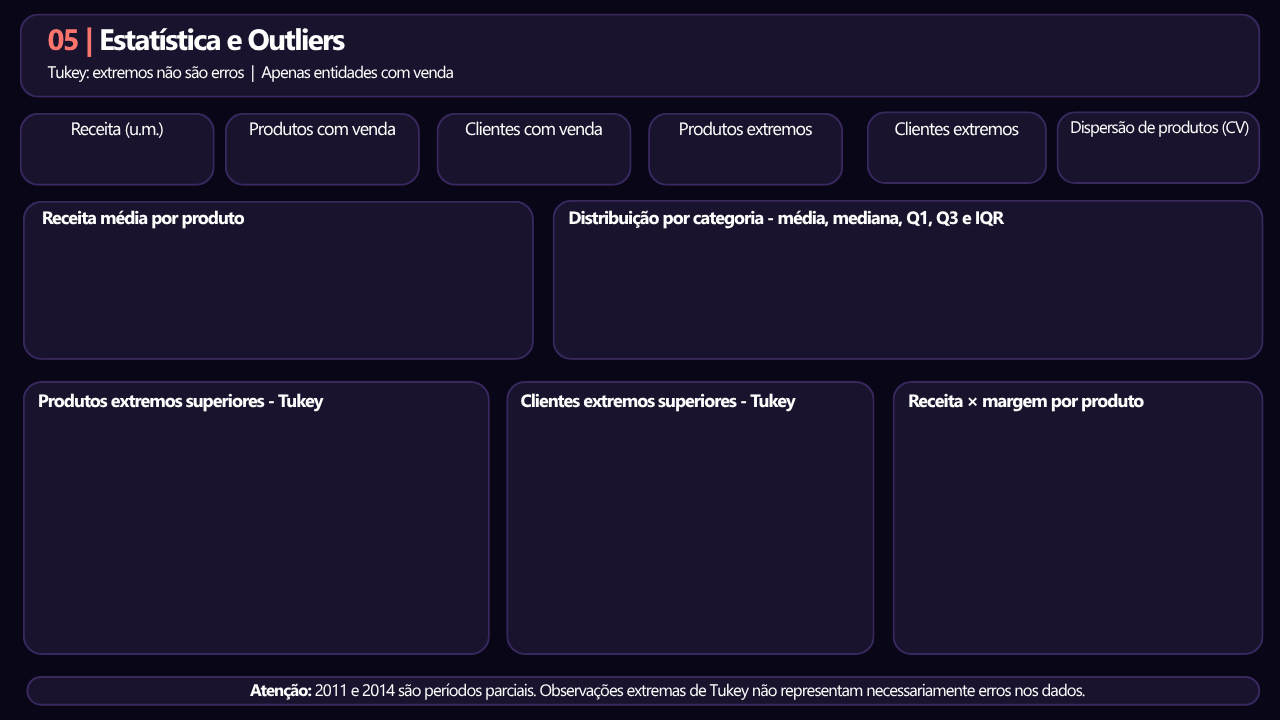

What the dashboard file says about the page in this screenshot:
{"tool":"powerbi","page":{"name":"05 | Estatística e Outliers","canvas":[1280,720],"ordinal":4},"visuals":[{"type":"slicer","fields":{"Values":["DimCalendario.Ano"]},"box":[703.8,20.5,128.8,68.8],"z":0},{"type":"slicer","fields":{"Values":["DimProduto.Categoria"]},"box":[832.9,20.5,137.1,67.1],"z":1000},{"type":"slicer","fields":{"Values":["DimTerritorio.Territorio"]},"box":[970,20.5,138.7,66.4],"z":2000},{"type":"slicer","fields":{"Values":["DimCliente.TipoCliente"]},"box":[1108.7,20.5,141.2,66.4],"z":3000},{"type":"card","title":"Receita (u.m.)","fields":{"Values":["Medidas.Receita de Produtos"]},"box":[23.1,134.6,192.3,42.3],"z":4000},{"type":"card","title":"Produtos com venda","fields":{"Values":["Medidas.Produtos Analisados"]},"box":[224.6,133.8,193.8,43.1],"z":5000},{"type":"card","title":"Clientes com venda","fields":{"Values":["Medidas.Clientes Analisados"]},"box":[437.7,133.8,191.5,43.1],"z":6000},{"type":"card","title":"Produtos extremos","fields":{"Values":["Medidas.Produtos Outliers Total"]},"box":[647.7,135.4,194.6,42.3],"z":7000},{"type":"card","title":"Clientes extremos","fields":{"Values":["Medidas.Clientes Outliers Total"]},"box":[865.4,133.8,180,43.1],"z":8000},{"type":"card","title":"Dispersão produtos (CV)","fields":{"Values":["Medidas.Coeficiente Variação Produto"]},"box":[1059.2,133.8,203.8,42.3],"z":9000},{"type":"clusteredColumnChart","title":"Receita média por produto","fields":{"Category":["DimProduto.Categoria"],"Y":["Medidas.Receita Média Produto"]},"box":[36.4,222.9,486.4,129.3],"z":11000},{"type":"tableEx","title":"Distribuição por categoria — apenas produtos com venda","fields":{"Values":["DimProduto.Categoria","Medidas.Receita Média Produto","Medidas.Receita Mediana Produto","Medidas.Q1 Receita Produto","Medidas.Q3 Receita Produto","Medidas.IQR Receita Produto","Medidas.Diferença Média vs Mediana Produto %"]},"box":[560,222.9,690,130],"z":12000},{"type":"tableEx","title":"Produtos extremos superiores — Tukey","fields":{"Values":["DimProduto.NomeProduto","Medidas.Receita de Produtos","Medidas.Limite Superior Outlier Produto"]},"box":[36.7,420,442.5,221.7],"z":13000},{"type":"tableEx","title":"Clientes extremos superiores — Tukey","fields":{"Values":["DimCliente.CustomerID","DimCliente.NomeCliente","Medidas.Receita de Produtos"]},"box":[513.9,419.8,351.1,222],"z":14000},{"type":"scatterChart","title":"Produtos: receita × margem estimada","fields":{"X":["Medidas.Receita de Produtos"],"Y":["Medidas.Margem Bruta Estimada %"],"Size":["Medidas.Unidades Vendidas"],"Series":["DimProduto.NomeProduto"]},"box":[905.7,420,350,221.4],"z":15000}]}

Visuals, with their boxes in screenshot pixels (x1, y1, x2, y2), scaled from the page's 1280x720 canvas onto the 1280x720 screenshot:
slicer - DimCalendario.Ano: box=[704, 20, 833, 89]
slicer - DimProduto.Categoria: box=[833, 20, 970, 88]
slicer - DimTerritorio.Territorio: box=[970, 20, 1109, 87]
slicer - DimCliente.TipoCliente: box=[1109, 20, 1250, 87]
"Receita (u.m.)" card: box=[23, 135, 215, 177]
"Produtos com venda" card: box=[225, 134, 418, 177]
"Clientes com venda" card: box=[438, 134, 629, 177]
"Produtos extremos" card: box=[648, 135, 842, 178]
"Clientes extremos" card: box=[865, 134, 1045, 177]
"Dispersão produtos (CV)" card: box=[1059, 134, 1263, 176]
"Receita média por produto" clusteredColumnChart: box=[36, 223, 523, 352]
"Distribuição por categoria — apenas produtos com venda" tableEx: box=[560, 223, 1250, 353]
"Produtos extremos superiores — Tukey" tableEx: box=[37, 420, 479, 642]
"Clientes extremos superiores — Tukey" tableEx: box=[514, 420, 865, 642]
"Produtos: receita × margem estimada" scatterChart: box=[906, 420, 1256, 641]
